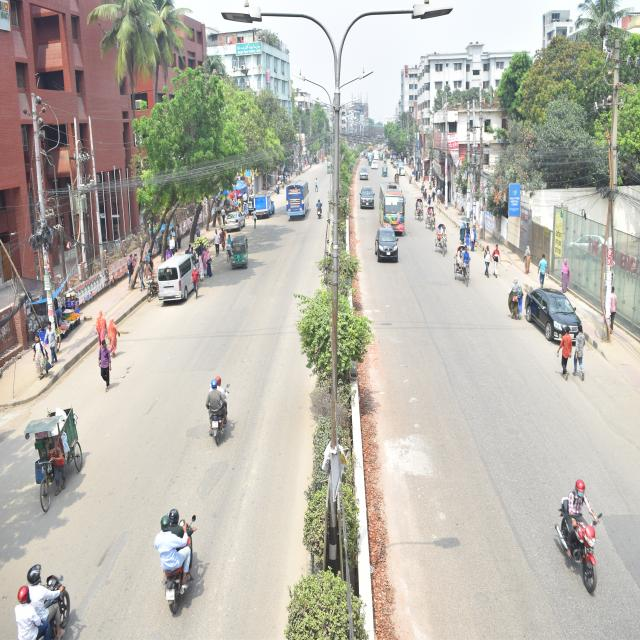bus: (282, 173, 321, 231), (378, 174, 407, 240)
car: (510, 253, 595, 370), (364, 218, 405, 274), (222, 198, 250, 248), (356, 178, 378, 211), (357, 166, 368, 184), (370, 158, 382, 174)
microbus: (156, 238, 223, 317)
motorbike: (130, 472, 230, 616), (550, 463, 619, 612), (196, 350, 248, 463), (312, 187, 327, 222)
pickup-van: (249, 183, 276, 239)
